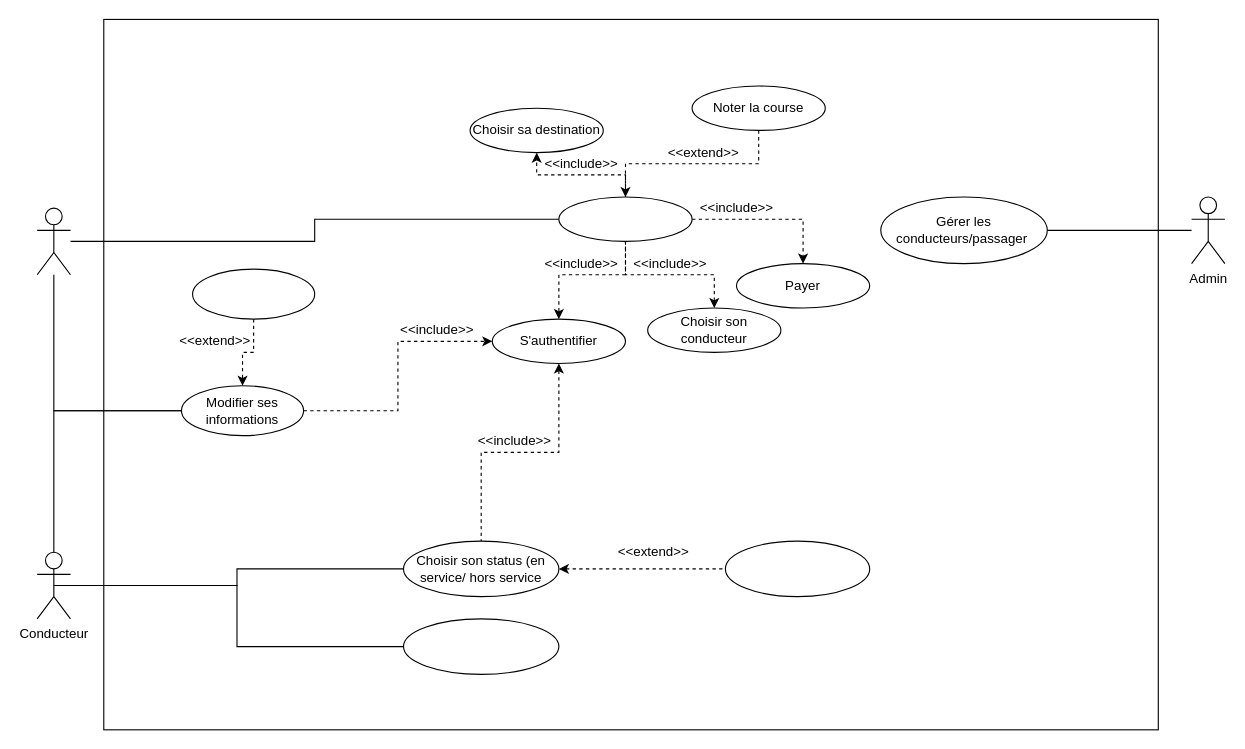
Some shapes in this 1245 by 749 pixel diagram are drawn without their labels. The shapes that lost their labels are listed below. From the top down, each one's box as (x1, y1, x2, y2) in pixels, then its label:
(558, 196, 692, 241): Commander une course
(36, 207, 70, 275): Passager
(191, 268, 315, 319): Se désinscrire
(724, 540, 870, 597): Accepter/refuser une course
(402, 618, 559, 674): Voir ses dernières et prochaines courses
